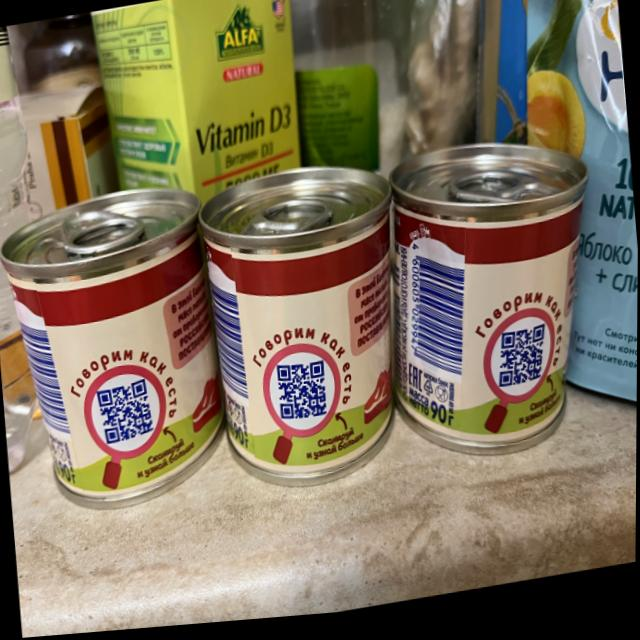qrcode: (96, 380, 156, 448), (496, 334, 551, 397), (277, 363, 329, 428)
